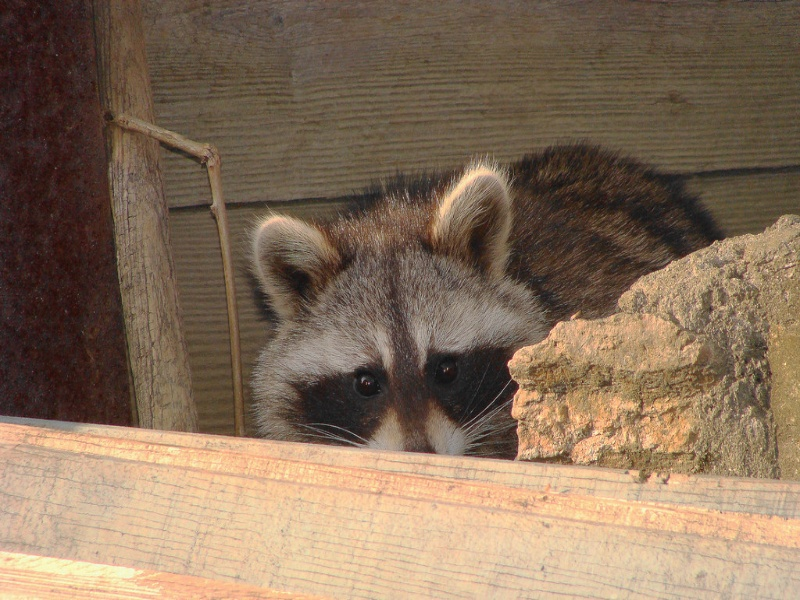raccoon: (240, 135, 729, 468)
